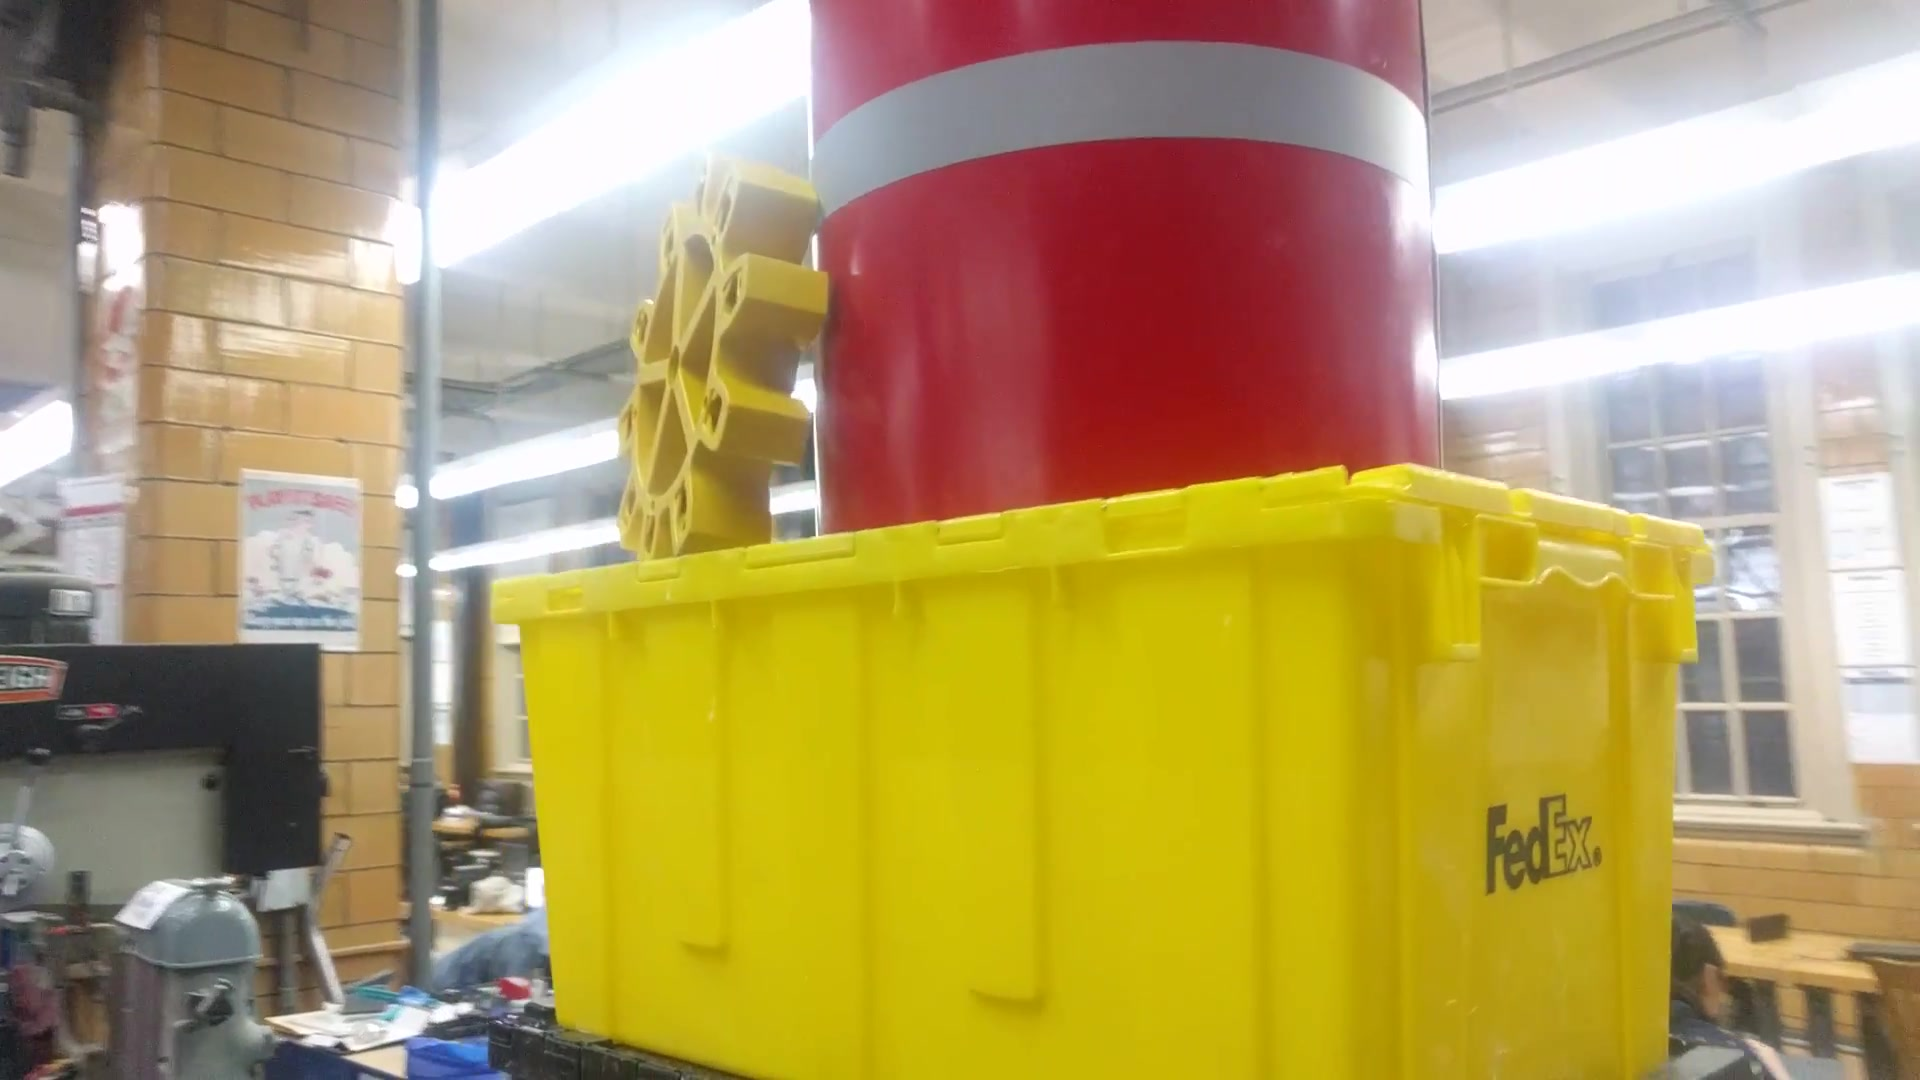gear: (607, 156, 831, 560)
